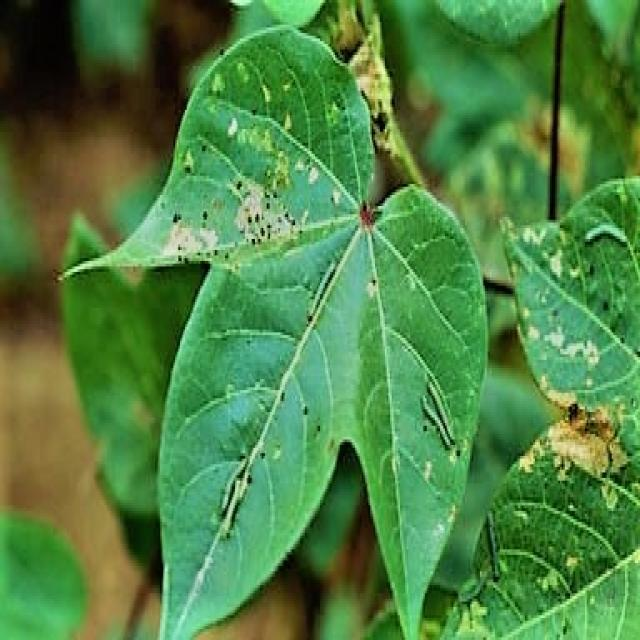armyworm: (420, 378, 462, 448)
